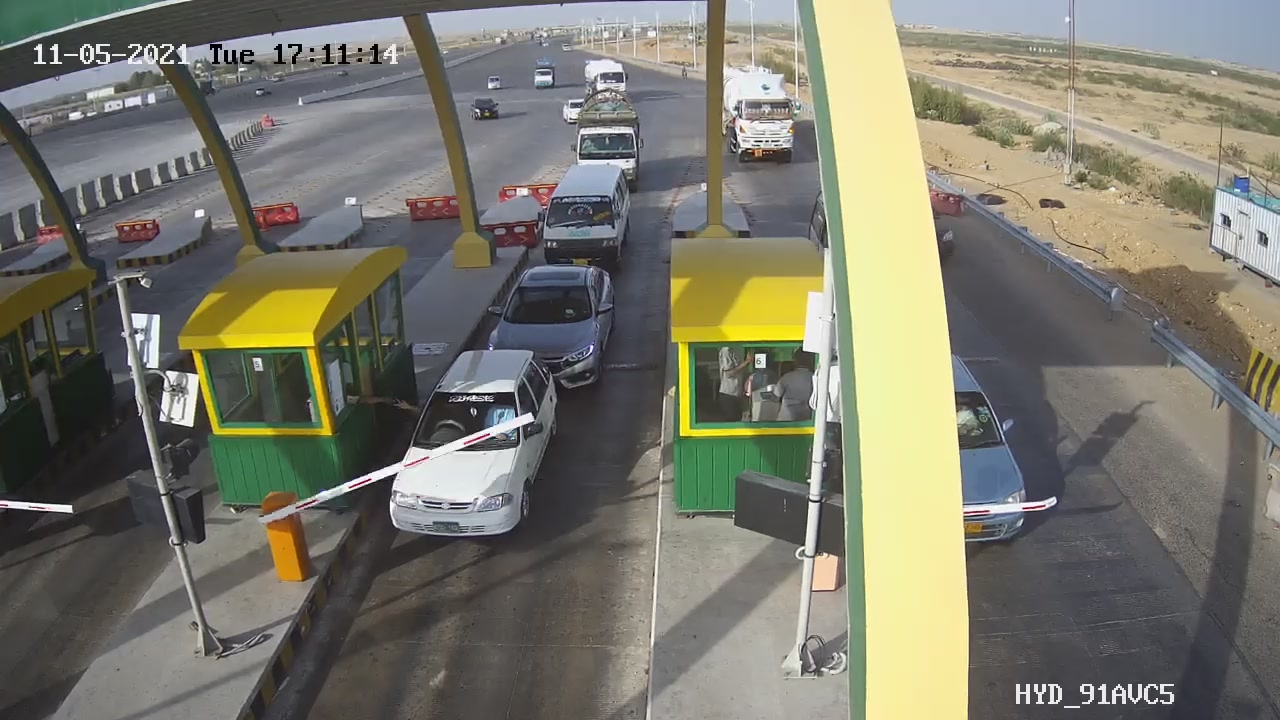F1: (373, 339, 581, 553), (469, 251, 631, 407)
